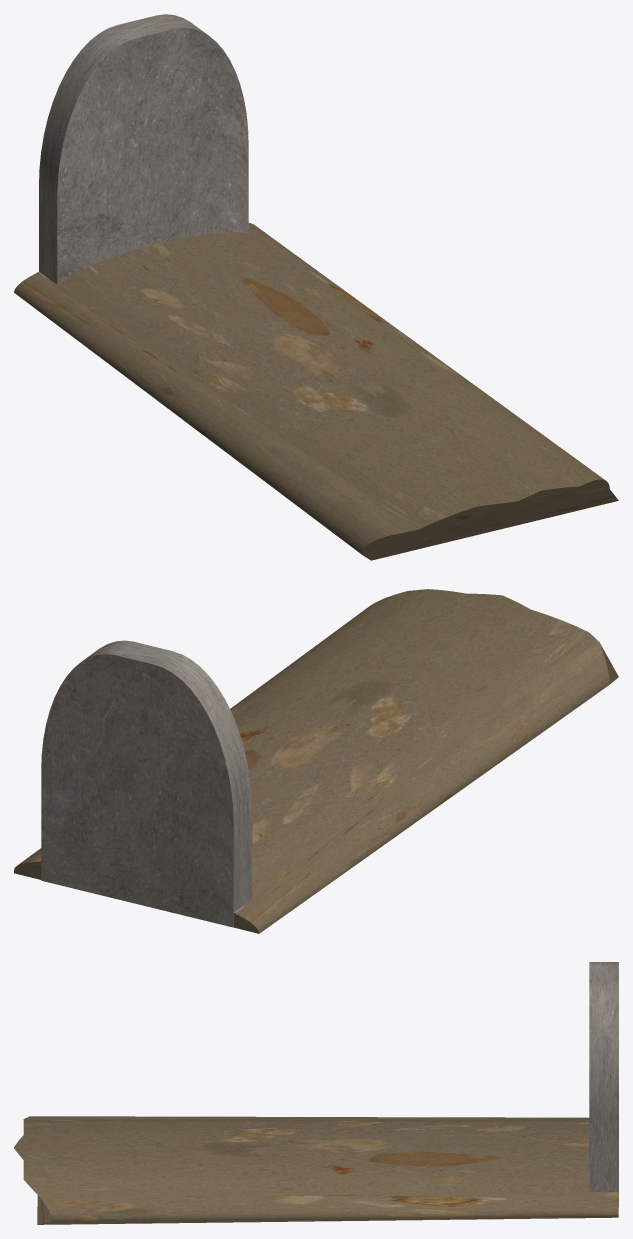
File: KuburanFix.fbx
The picture shows the model from 3 angles, top to bottom: view 1: azimuth 30°, elevation 25°; view 2: azimuth 150°, elevation 25°; view 3: azimuth 270°, elevation 25°; orthographic projection. The views are drawn at different scales.
Visible parts, largest first — view 1: Cube.001, Cube; view 2: Cube.001, Cube; view 3: Cube.001, Cube.
Part boxes in pixels (<box>): Cube.001: <box>14,222,618,560</box>; Cube: <box>39,14,248,284</box>; Cube.001: <box>14,589,618,933</box>; Cube: <box>41,640,252,927</box>; Cube.001: <box>14,1116,618,1224</box>; Cube: <box>589,962,618,1207</box>.
Bounding box in the file's own units: 258 × 249 × 674.
2 materials, 2 textured.
